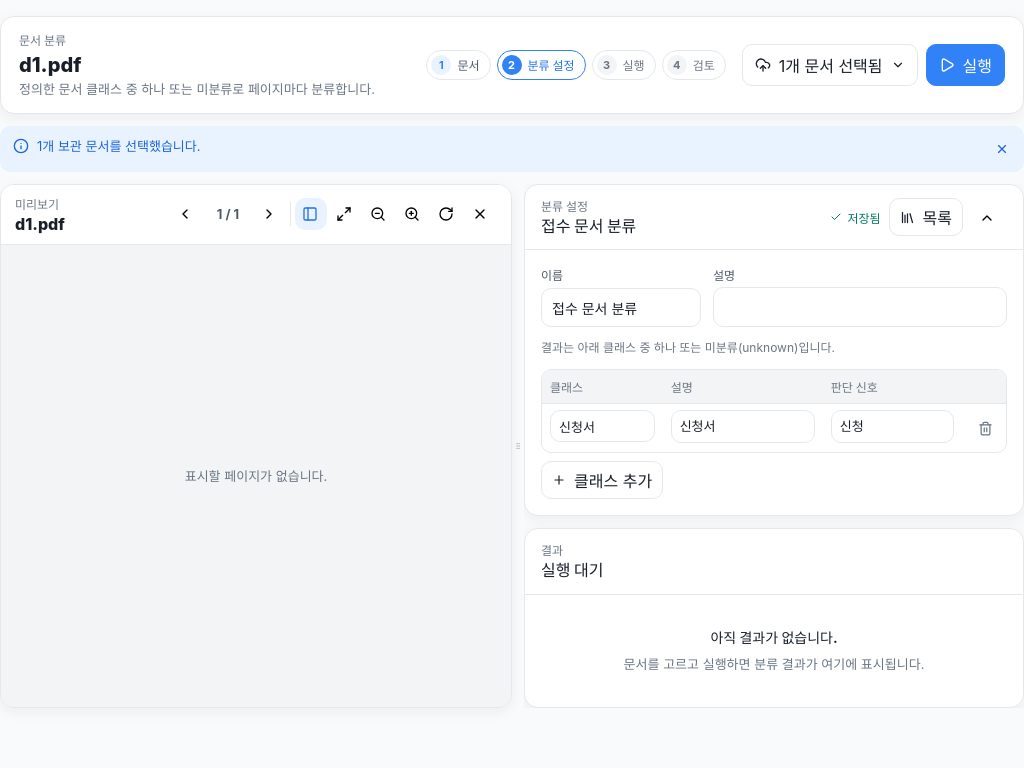
Scenario: ModuleWorkspace (분류) 결과 수정 › 결과를 고쳐도 [수정 저장] 전에는 PATCH하지 않는다
Expected: the heading "접수 문서 분류" is shown, x1=541 y1=216 x2=636 y2=237
Step 1. Click the button "실행" → [965, 65], box x1=926 y1=44 x2=1005 y2=86
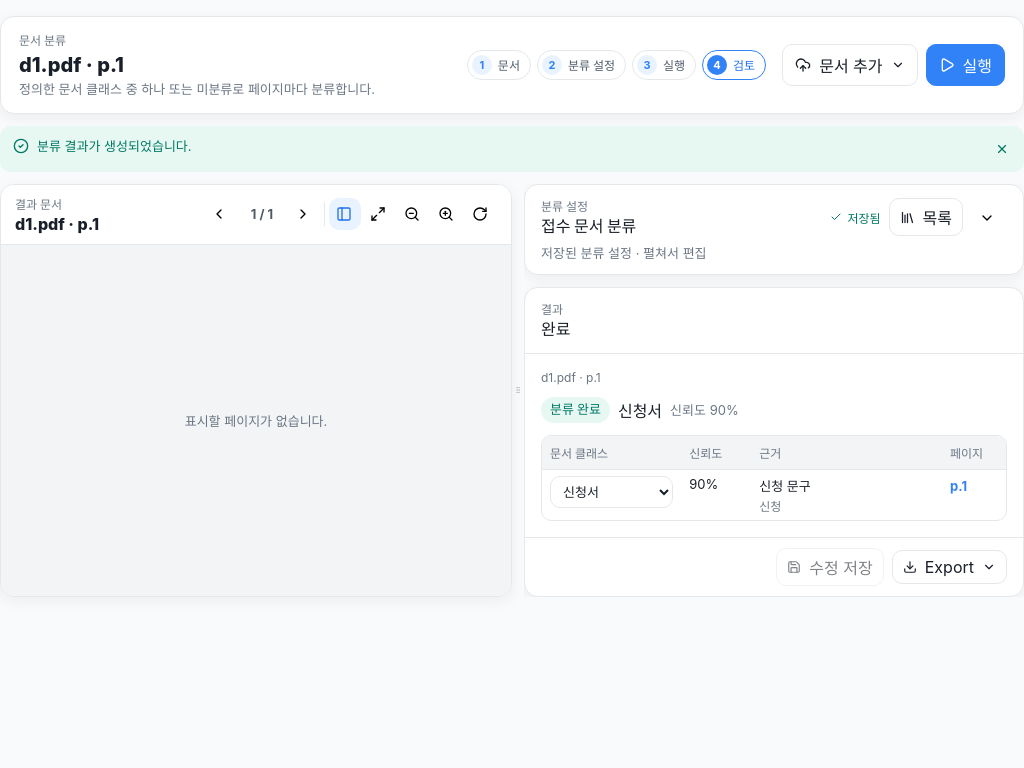
Step 2. Select "미분류" in the dropdown named "문서 클래스 수정" → [612, 492], box x1=550 y1=476 x2=673 y2=508
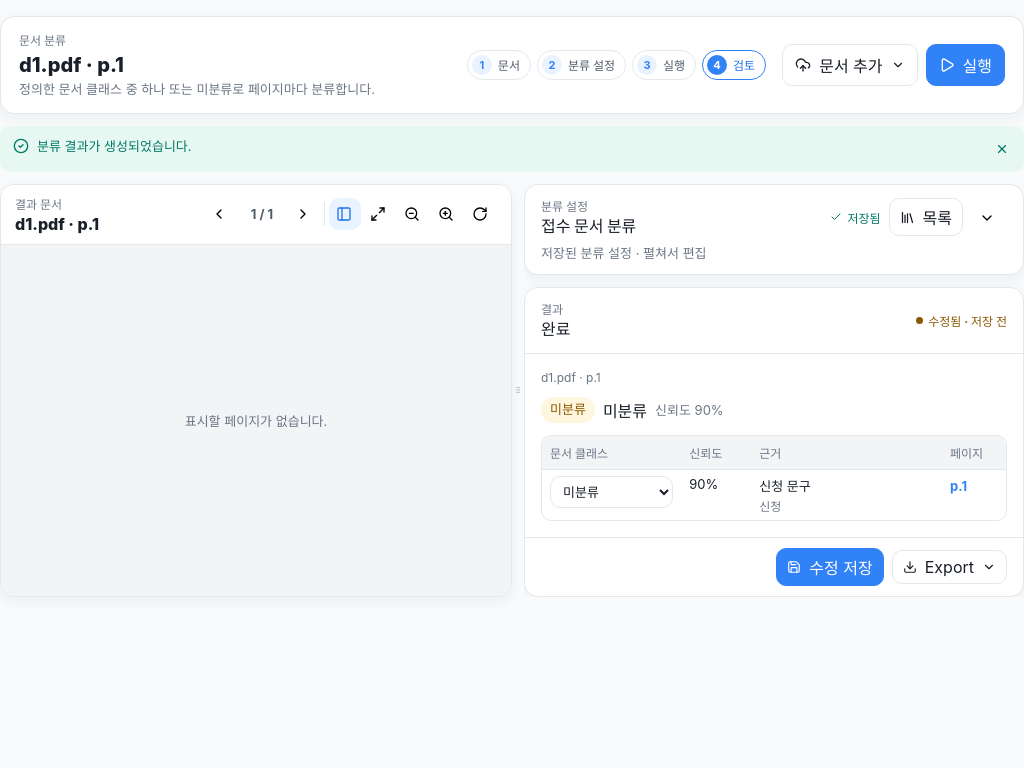
Now the text "수정됨 · 저장 전" is shown, box x1=916 y1=312 x2=1007 y2=329
Step 3. Click the button "수정 저장" → [830, 567], box x1=776 y1=548 x2=884 y2=586
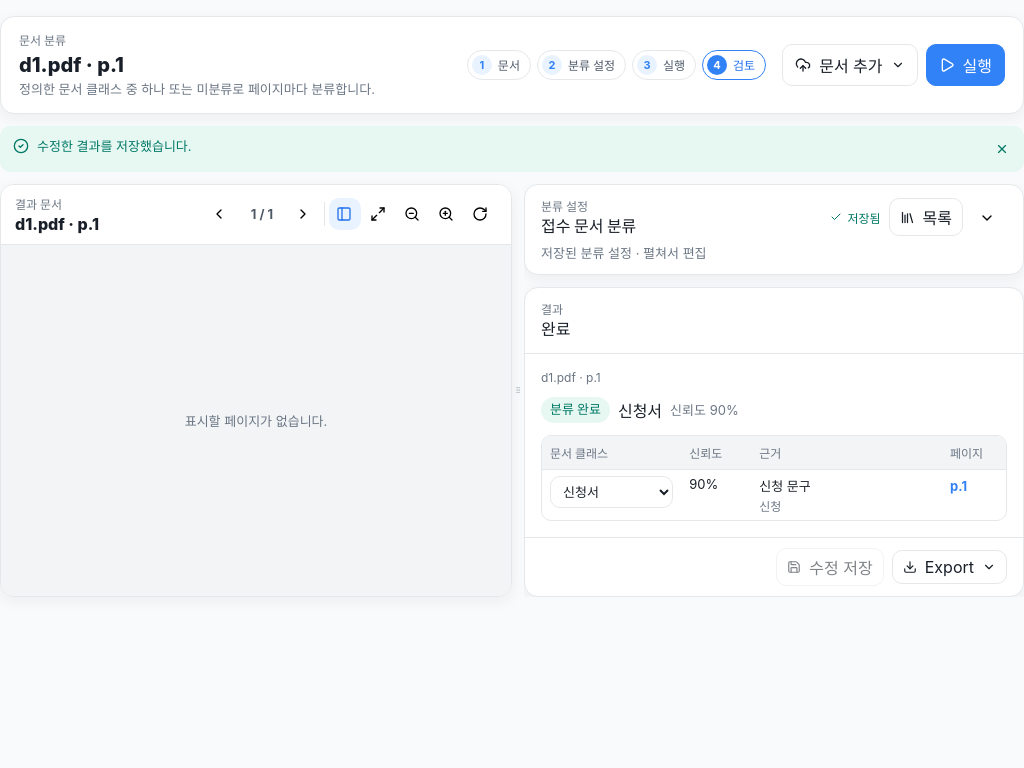
Now the text "수정한 결과를 저장했습니다." is shown, box x1=37 y1=138 x2=192 y2=154
